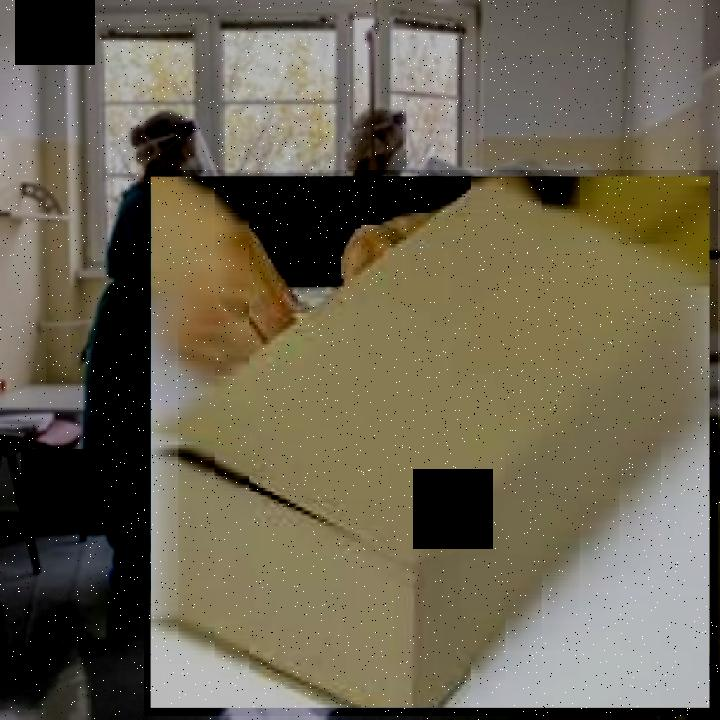box: (144, 170, 718, 716)
